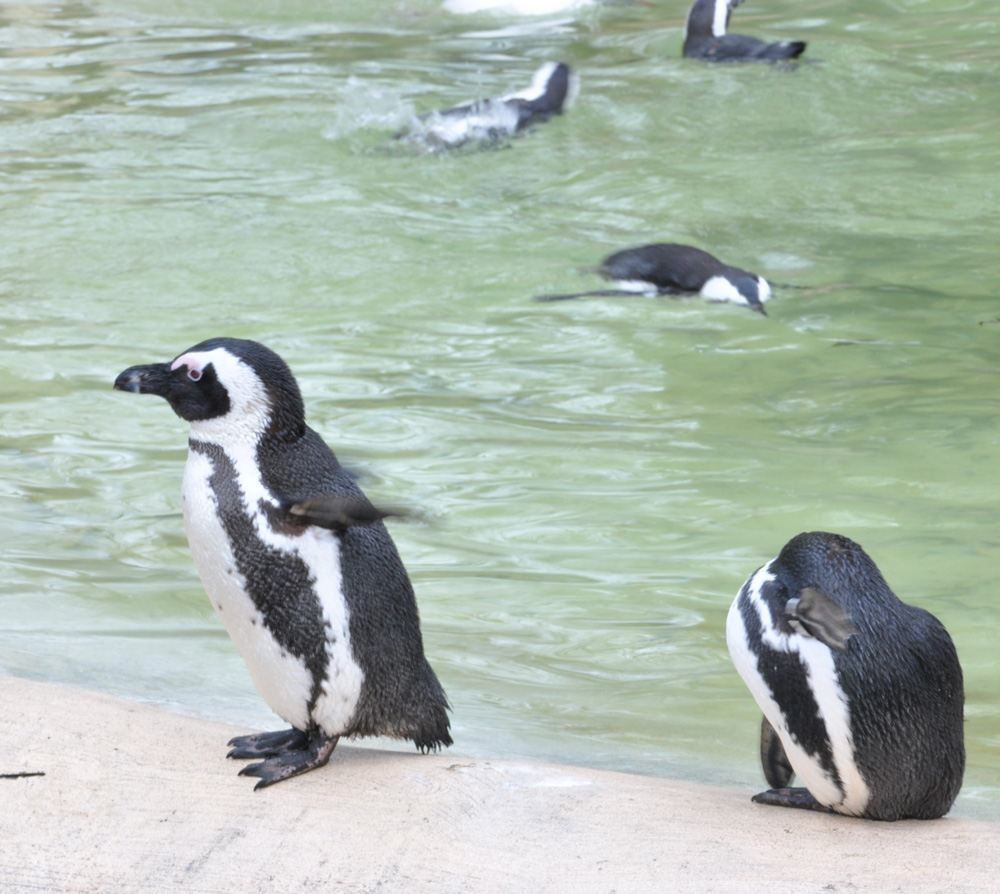penguin: (116, 331, 464, 790)
